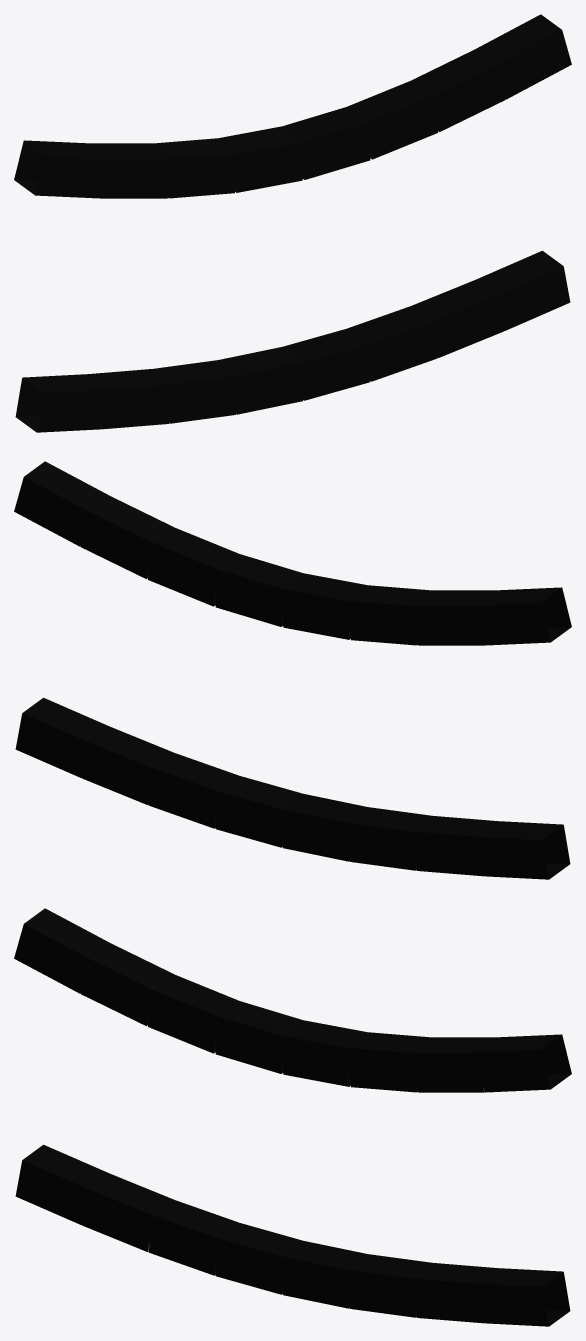
Rendered from rambarde_corde.obj.
3 renders of one model, top to bottom at view 1: azimuth 30°, elevation 25°; view 2: azimuth 150°, elevation 25°; view 3: azimuth 330°, elevation 25°, orthographic.
Visible parts, largest first — view 1: corps; view 2: corps; view 3: corps.
Boxes of the visible parts, x1,y1,x2,y2 form: corps: [14, 14, 571, 432]; corps: [14, 461, 571, 879]; corps: [14, 908, 571, 1326].
Size of the model in its own units: 1.02 by 0.5587 by 0.07.
